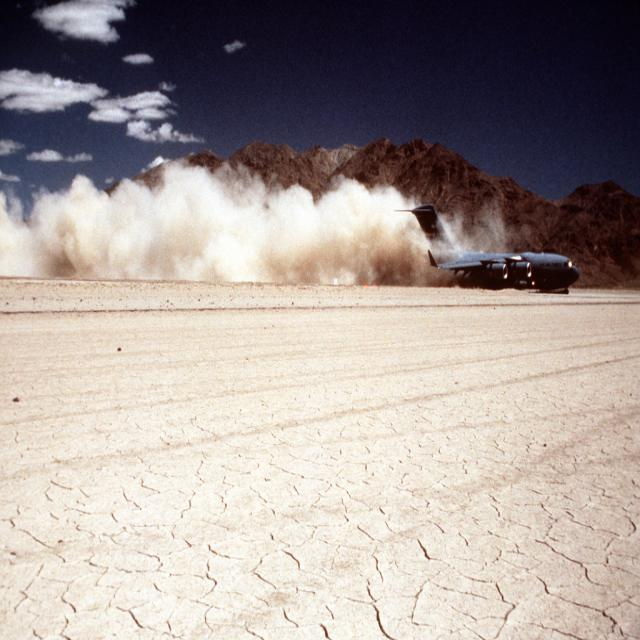MIL_Plane: (9, 204, 195, 294)
